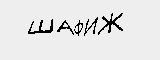А: (55, 19, 73, 36)
Ж: (98, 11, 125, 34)
И: (83, 16, 98, 37)
Ф: (72, 19, 84, 38)
Ш: (23, 17, 56, 36)
